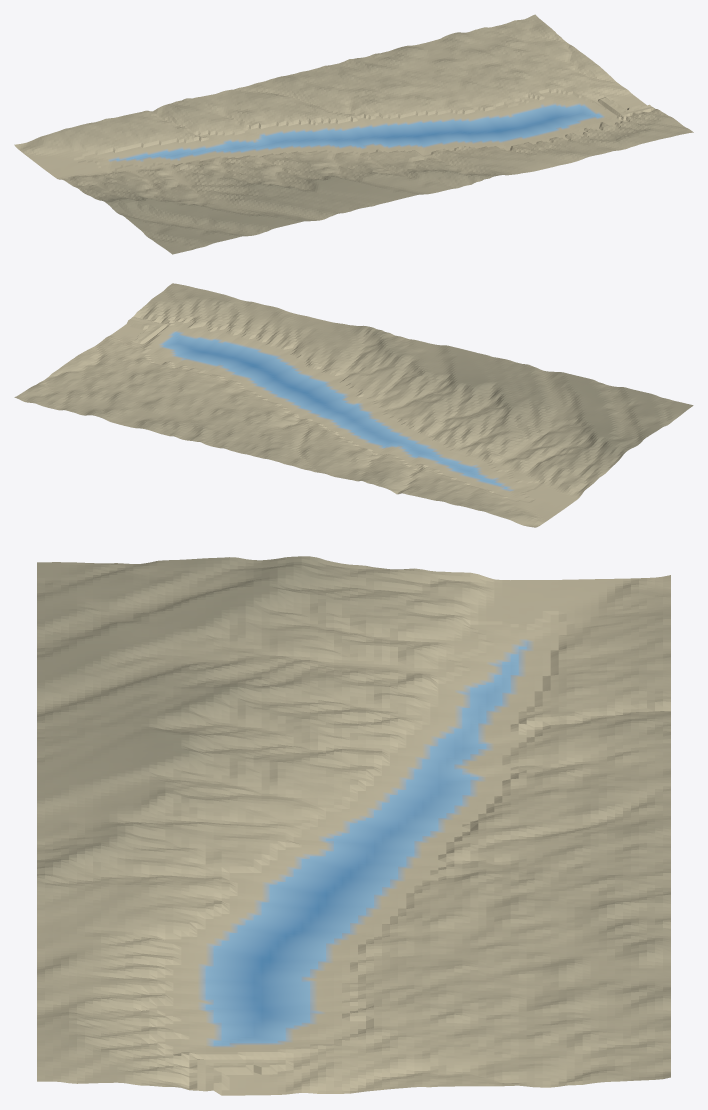
File: lake_mcconaughy_ne.glb
The picture shows the model from 3 angles, top to bottom: view 1: azimuth 30°, elevation 25°; view 2: azimuth 150°, elevation 25°; view 3: azimuth 270°, elevation 25°; orthographic projection. The views are drawn at different scales.
Visible parts, largest first — view 1: terrain, water; view 2: terrain, water; view 3: terrain, water.
Part boxes in pixels (x1=…): terrain: x1=14, y1=14, x2=693, y2=254; water: x1=116, y1=105, x2=601, y2=160; terrain: x1=14, y1=283, x2=693, y2=527; water: x1=162, y1=332, x2=506, y2=488; terrain: x1=37, y1=556, x2=670, y2=1095; water: x1=205, y1=646, x2=526, y2=1045.
Size of the model in its own units: 33427 by 992 by 17601.
